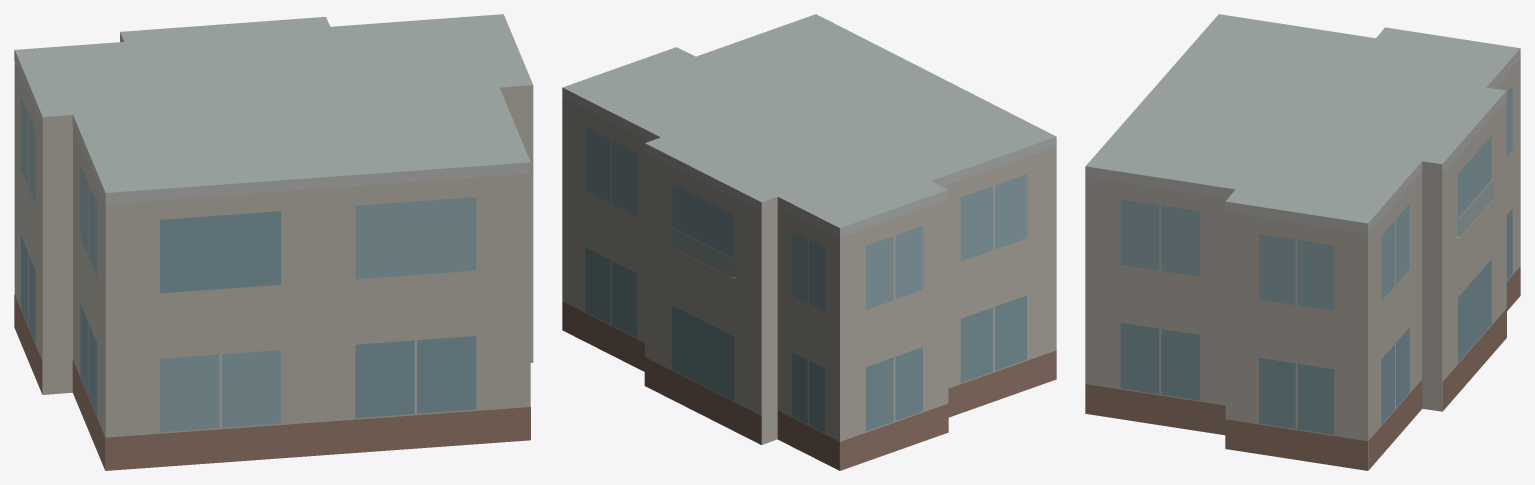
File: survey-upis-33030304.glb
3 views of the same model, side by side, from view 1: azimuth 30°, elevation 25°; view 2: azimuth 150°, elevation 25°; view 3: azimuth 270°, elevation 25° (orthographic). The views are drawn at different scales.
Visible parts, largest first — view 1: survey-upis-33030304.tmp; view 2: survey-upis-33030304.tmp; view 3: survey-upis-33030304.tmp.
Boxes of the visible parts, <box> form: survey-upis-33030304.tmp: <box>14,14,533,470</box>; survey-upis-33030304.tmp: <box>562,14,1056,470</box>; survey-upis-33030304.tmp: <box>1085,14,1520,470</box>.
Bounding box in the file's own units: 11.09 × 6.1 × 9.73.
